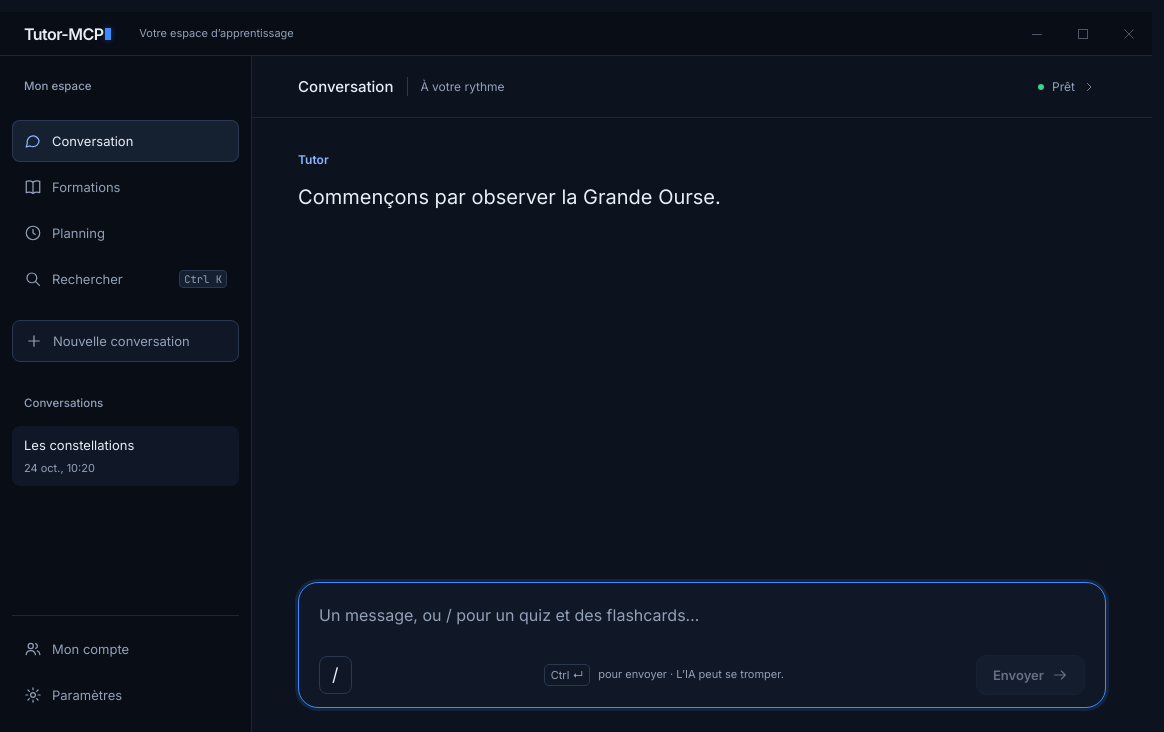
Test: Apprendre depuis la conversation › ouvre une nouvelle conversation tout en conservant l’historique vertical
The width and height of the screenshot is (1164, 732).
Check: the text "Commençons par observer la Grande Ourse." is shown, box [298,185,721,209]
Click the button "Nouvelle conversation" at coordinates (126, 341), box [12,320,239,362]
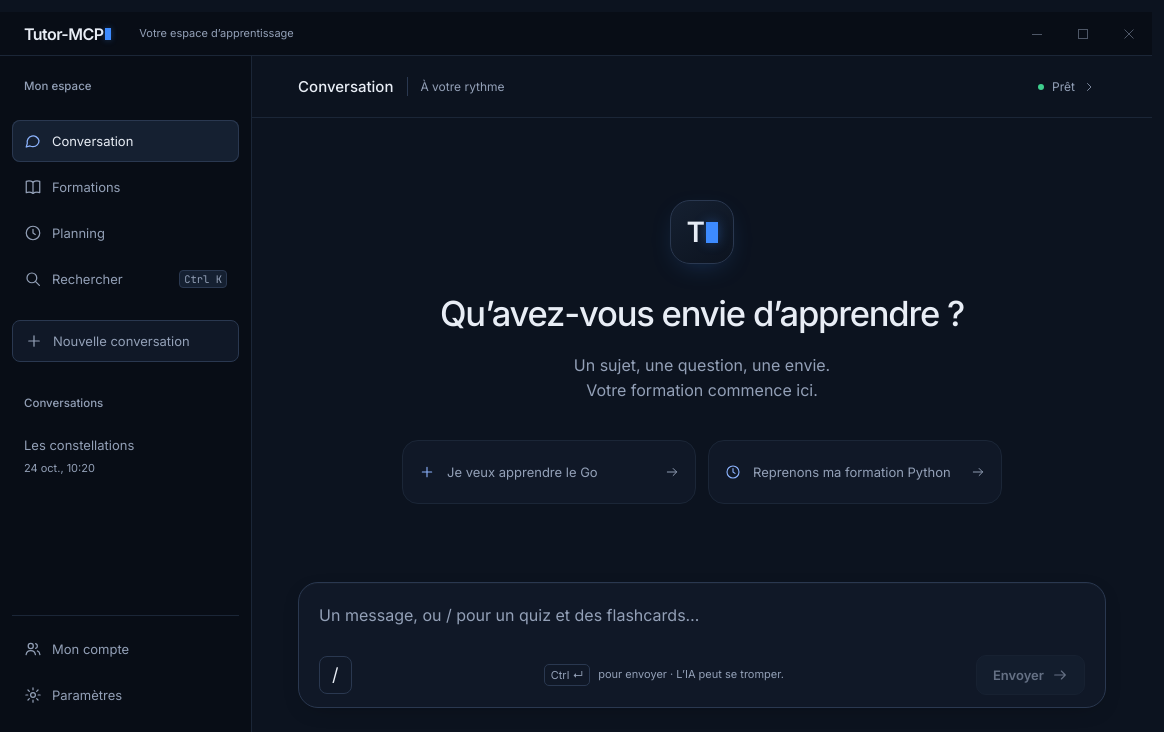
Check: the navigation bar named "Historique des conversations" is shown, box [12,396,239,486]
Check: the heading "Qu’avez-vous envie d’apprendre ?" is shown, box [440,292,964,337]
